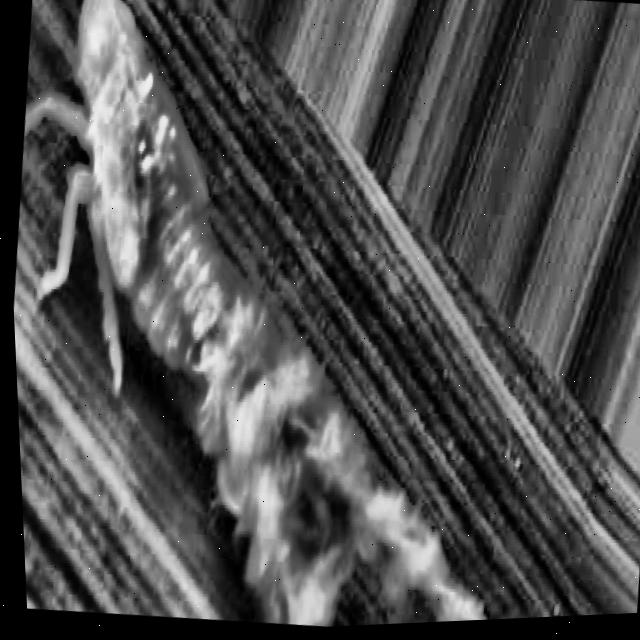Pyrilla-perpusilla: (0, 0, 611, 640)
